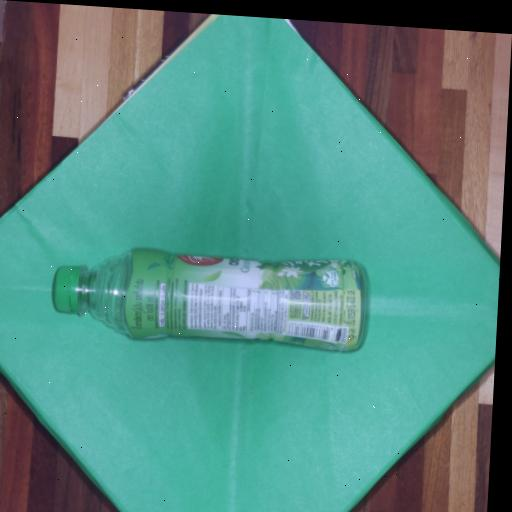bottle: (54, 243, 368, 356)
